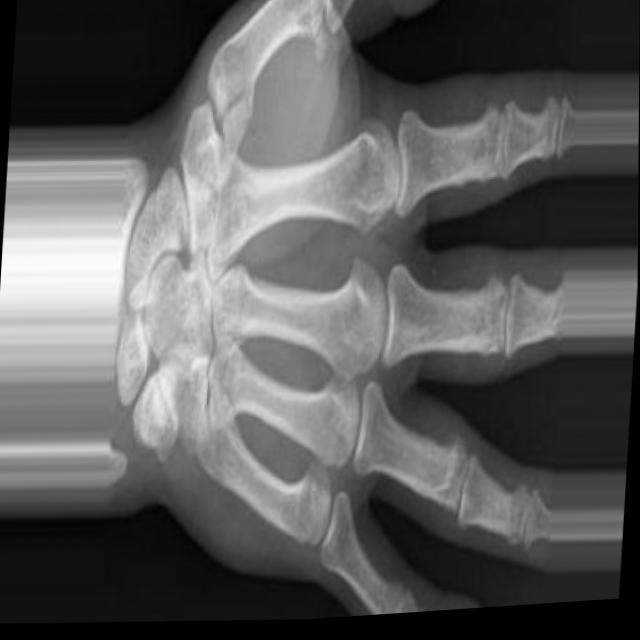fracture: (210, 77, 266, 150)
